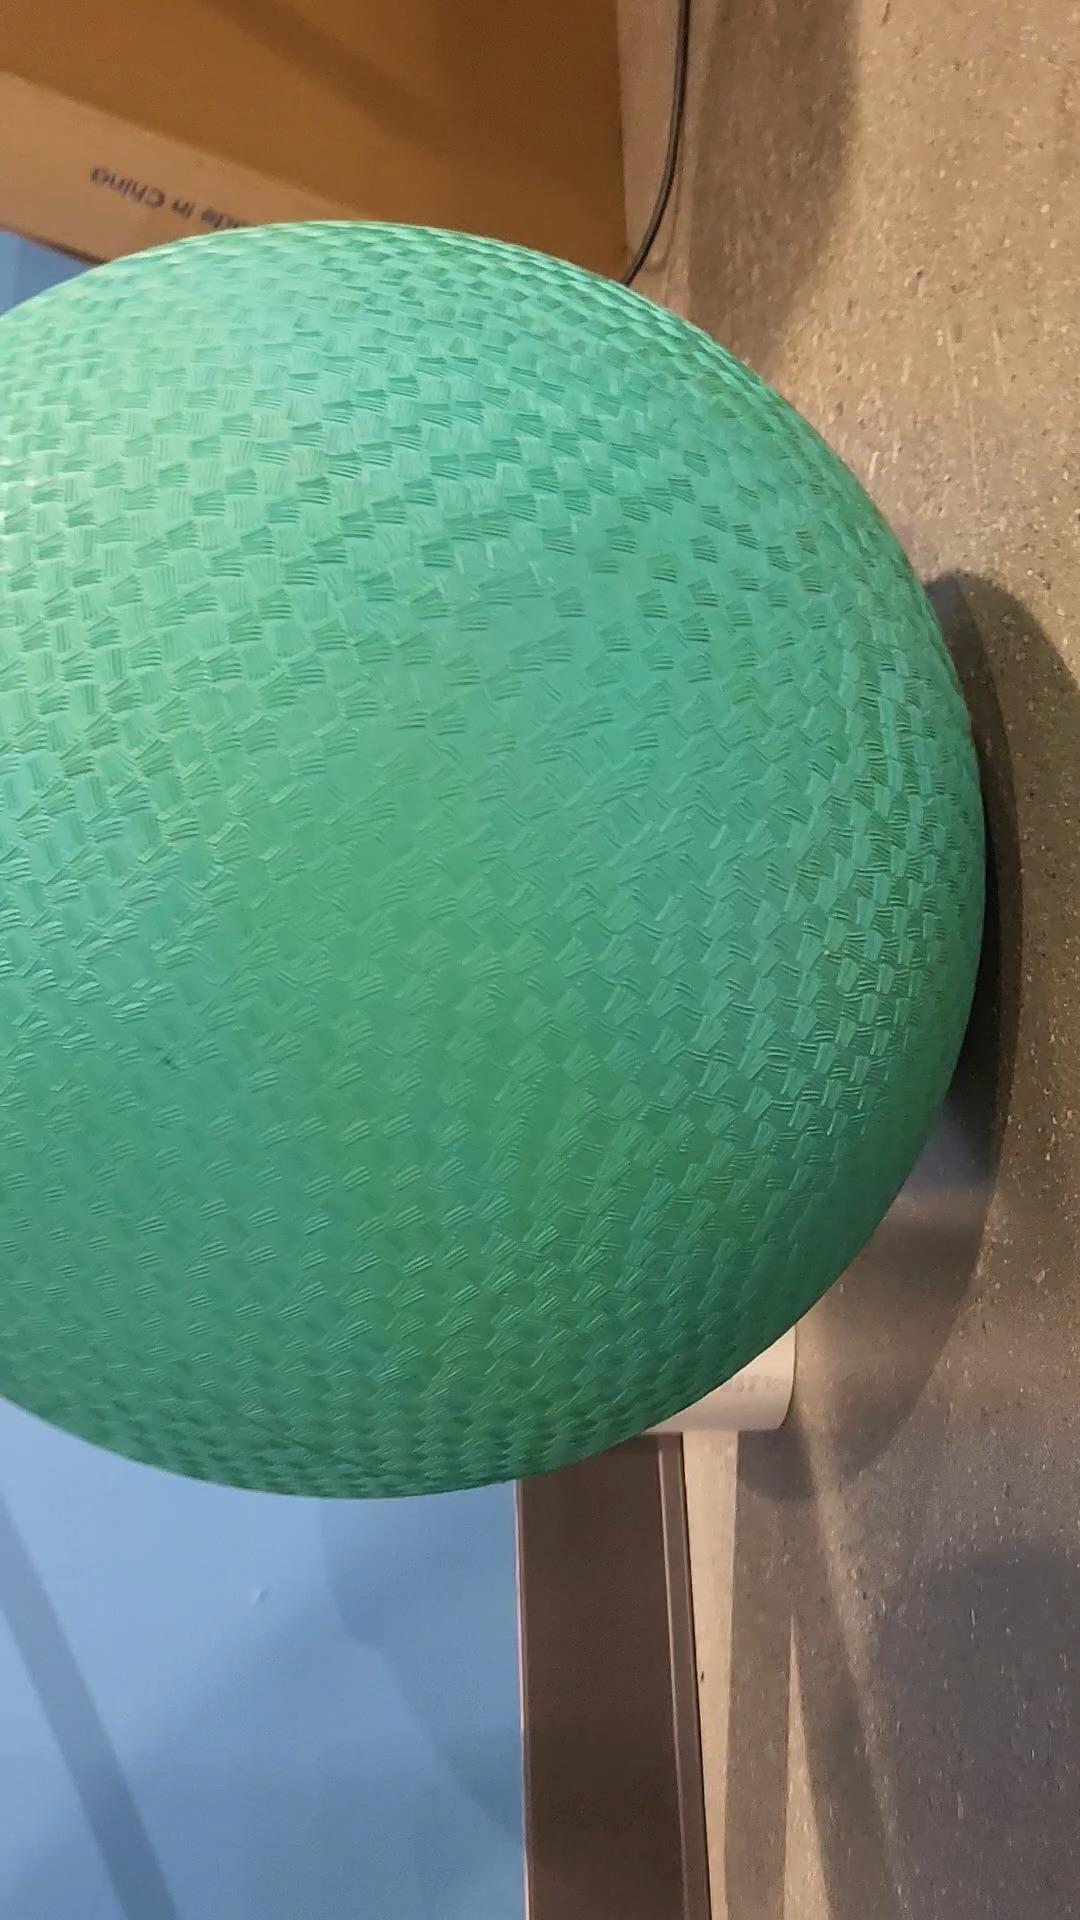algae: (0, 218, 980, 1495)
coral: (620, 1323, 810, 1448)
